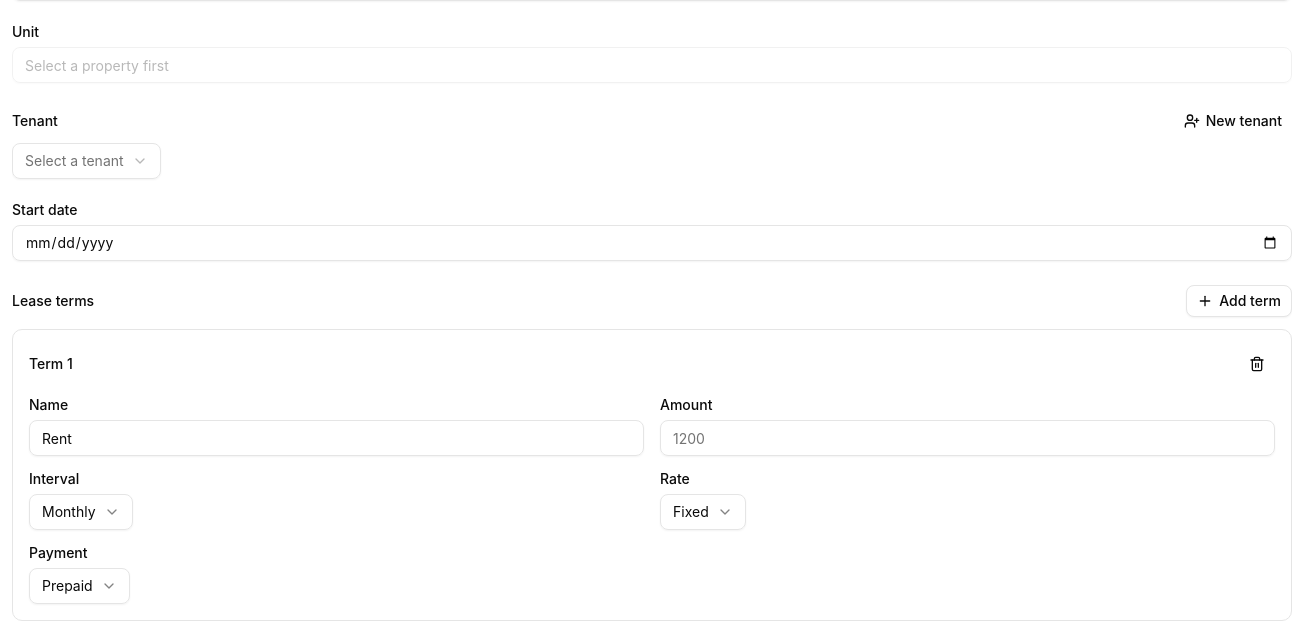
Test: LeaseForm › adds and removes an extra lease term
The width and height of the screenshot is (1304, 628).
Click the button "Add term".
click(1239, 301)  # box [1186,285,1292,317]
(page scrolled)
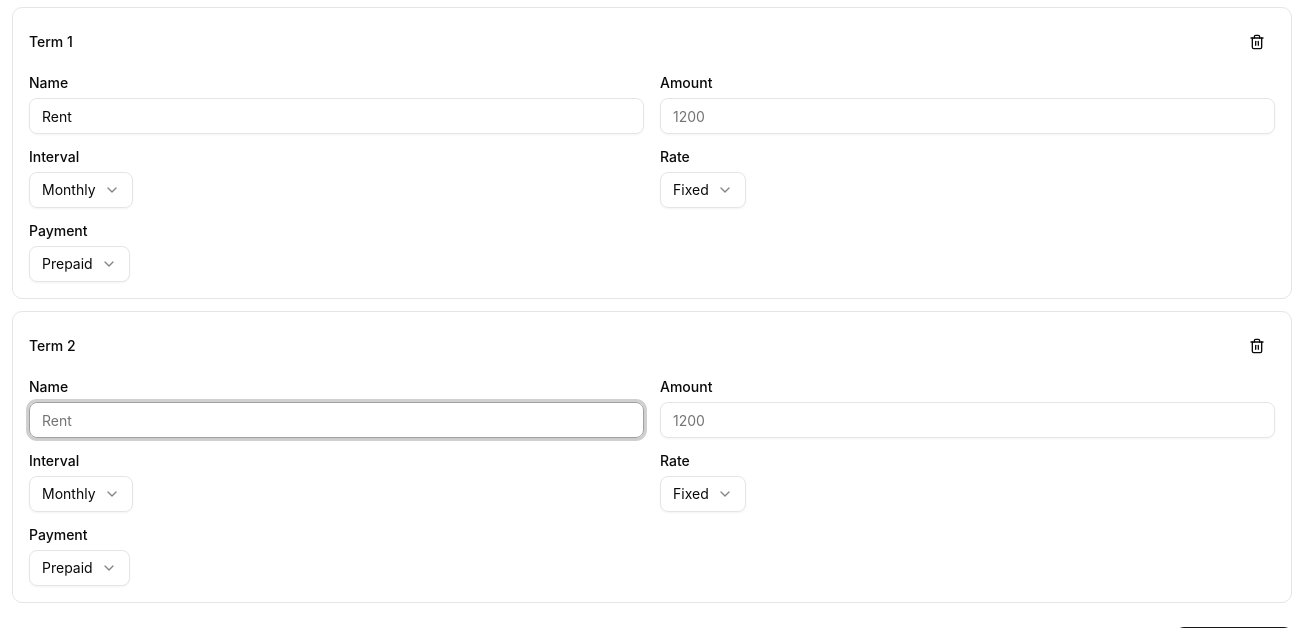
Check: the text "Term 2" is shown, box [29,336,76,356]
Click the button named "remove term 2".
click(1257, 346)  # box [1239,328,1275,364]
(page scrolled)
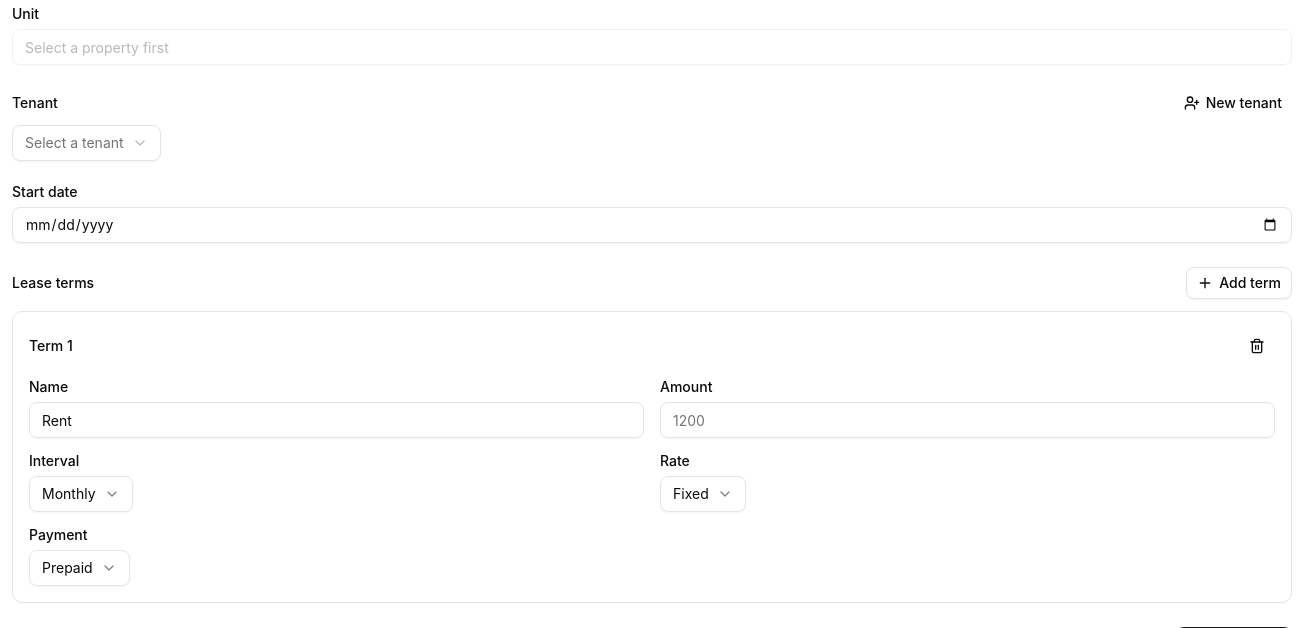
Check: the text "Term 1" is shown, box [29,336,73,356]
Check: the text "Term 2" is gone
